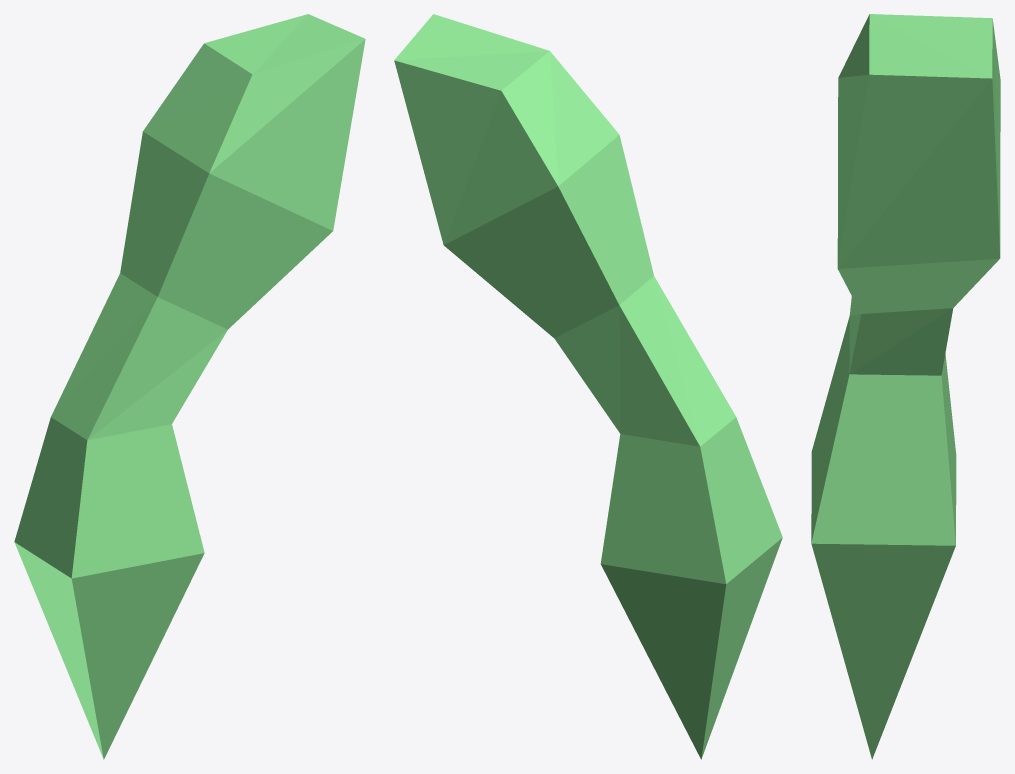
File: Troll Stalagmite 2.FBX
3 views of the same model, side by side, from view 1: azimuth 30°, elevation 25°; view 2: azimuth 150°, elevation 25°; view 3: azimuth 270°, elevation 25° (orthographic). The views are drawn at different scales.
Parts seen in each view (by area): view 1: Object005; view 2: Object005; view 3: Object005.
Boxes of the visible parts, x1,y1,x2,y2 form: Object005: [14, 14, 365, 759]; Object005: [394, 14, 782, 759]; Object005: [811, 14, 1000, 759].
Bounding box in the file's own units: 255 × 505 × 102.
